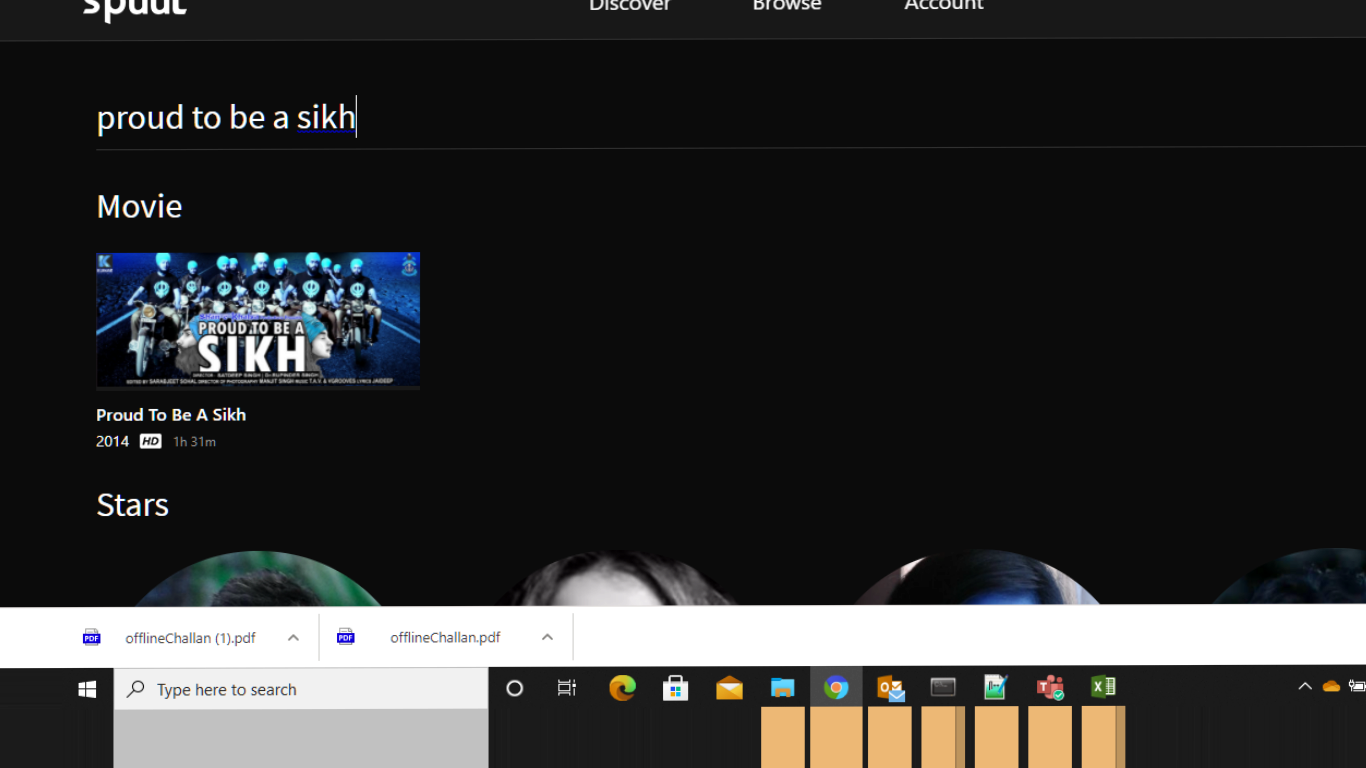myaccountbutton: (898, 1, 993, 25)
resultsfound: (66, 166, 326, 248)
searchtextbox: (78, 72, 1349, 168)
